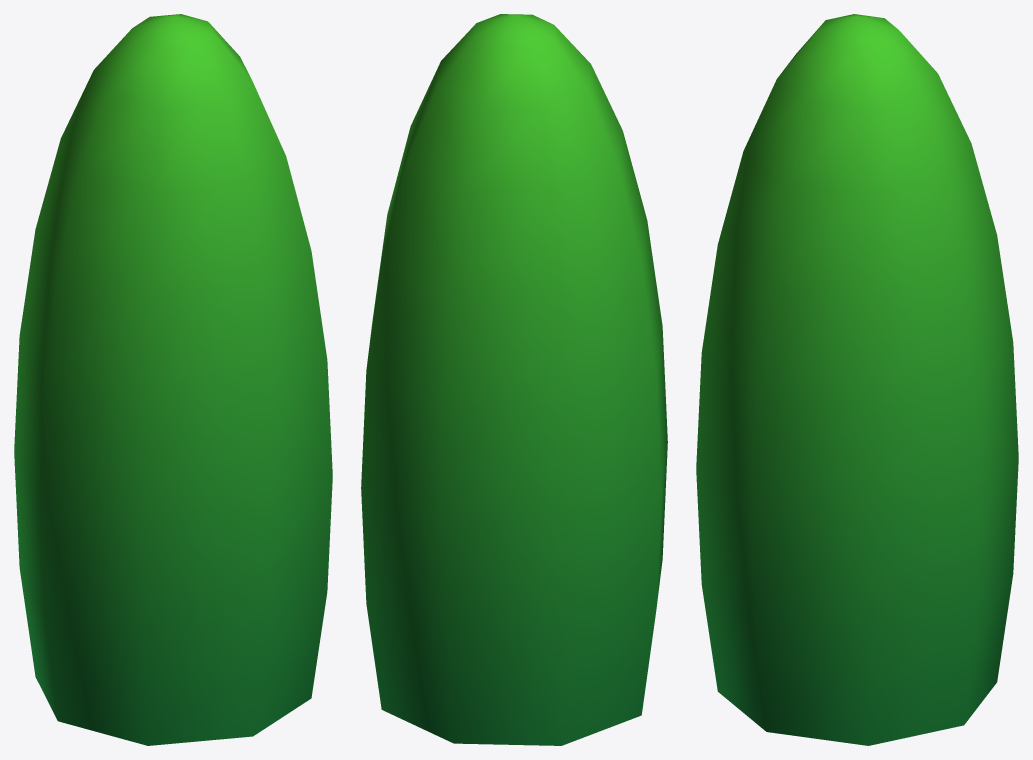
The model's file is Bush_2_A_1.glb.
The picture shows the model from 3 angles, left to right: view 1: azimuth 30°, elevation 25°; view 2: azimuth 150°, elevation 25°; view 3: azimuth 270°, elevation 25°; orthographic projection.
Parts seen in each view (by area): view 1: Bush_2_A_1; view 2: Bush_2_A_1; view 3: Bush_2_A_1.
Boxes of the visible parts, x1,y1,x2,y2 form: Bush_2_A_1: [14, 14, 332, 745]; Bush_2_A_1: [361, 14, 667, 745]; Bush_2_A_1: [696, 14, 1018, 745].
Bounding box in the file's own units: 0.6938 × 1.59 × 0.6938.
1 material, 1 textured.
